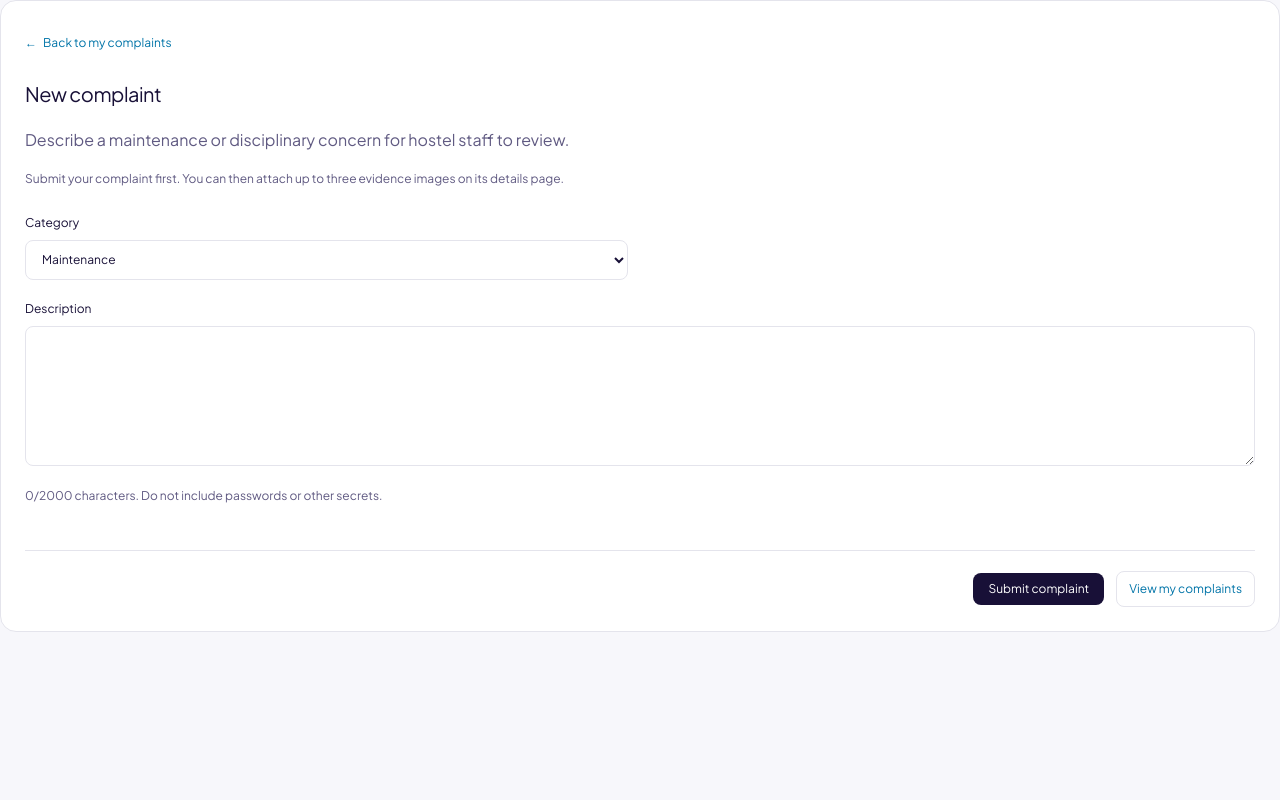
it: prevents duplicate submissions and locks the exact payload after an uncertain result
In the text box labelled "Description": (640, 396) [25,326,1255,466], type "Window latch needs repair"
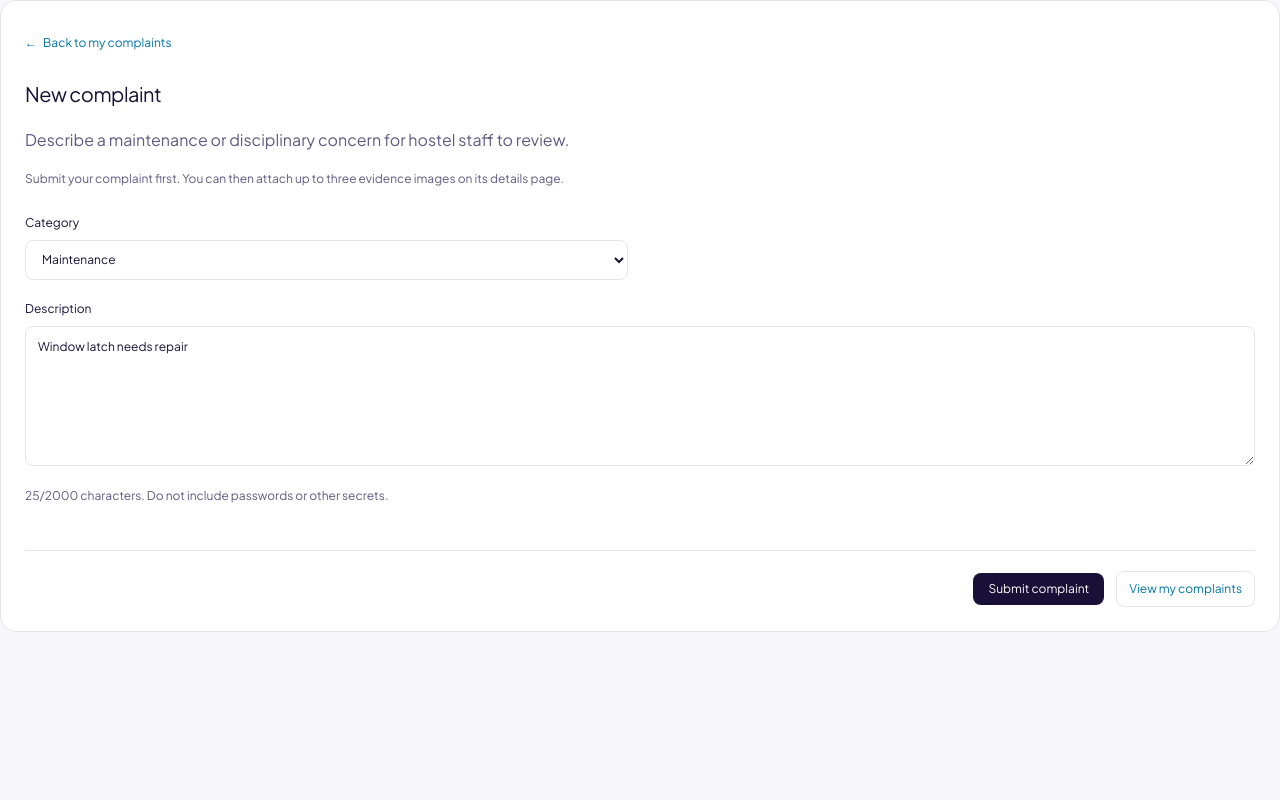
Click the button "Submit complaint": (1039, 589) [973,573,1104,605]
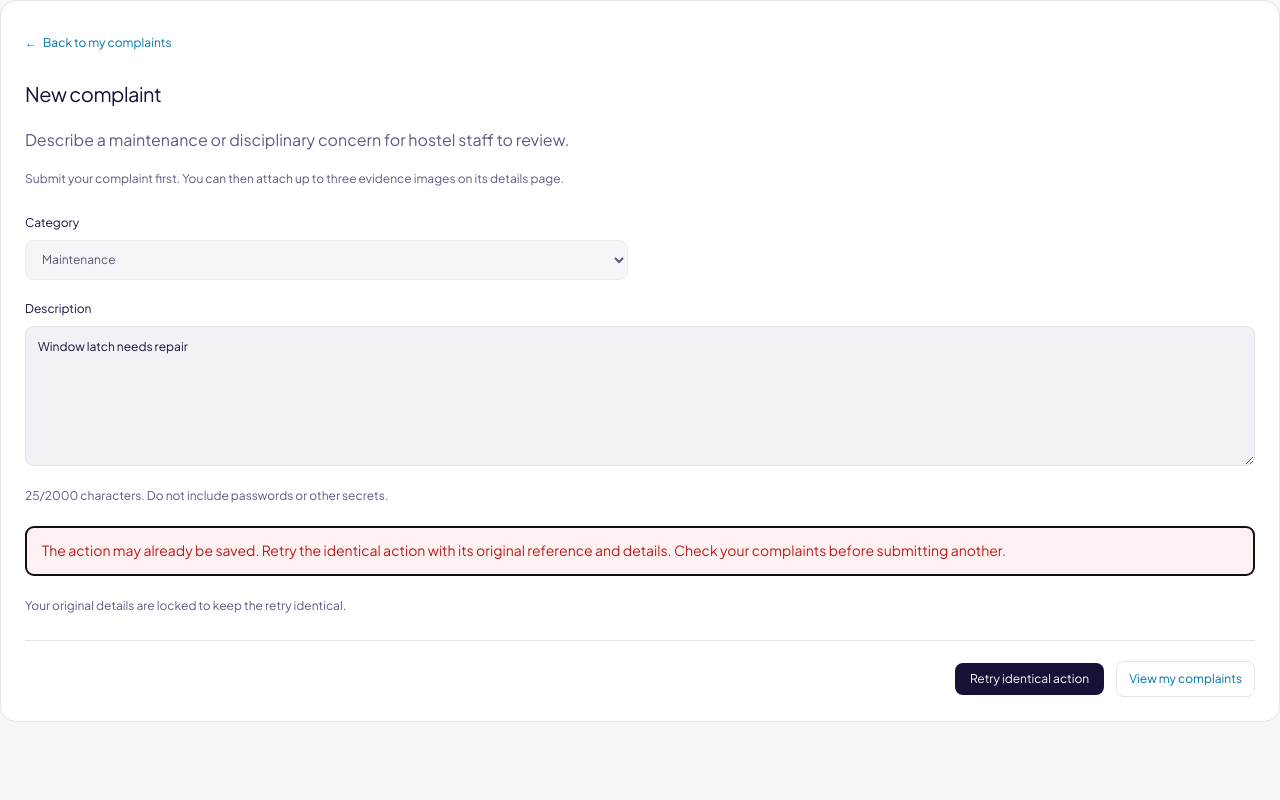
Expected: the text box labelled "Description" is disabled, [25,326,1255,466]
Result: the button "Retry identical action" is shown
Result: the dropdown labelled "Category" is disabled at [25,240,628,280]
Click the button "Retry identical action": (1030, 679) [955,663,1104,695]
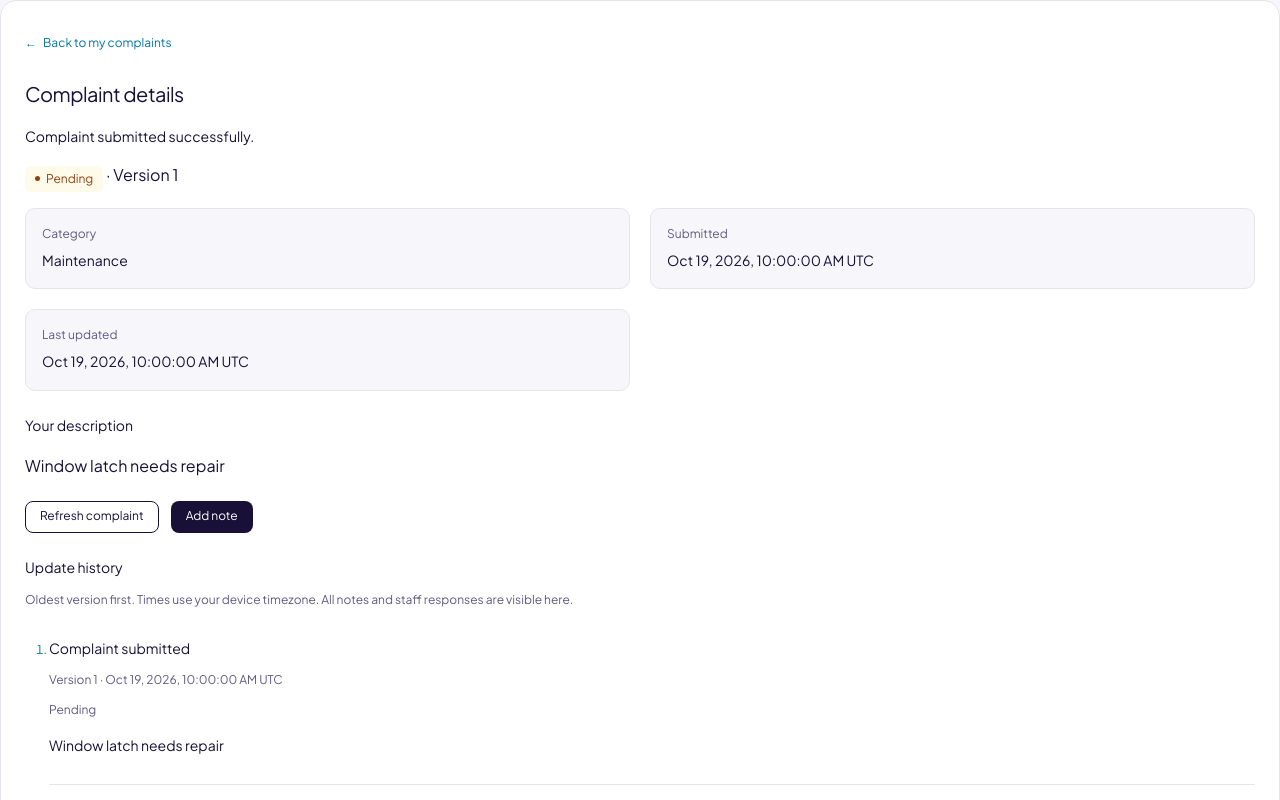
Result: the heading "Complaint details" is shown at [25,81,184,106]
